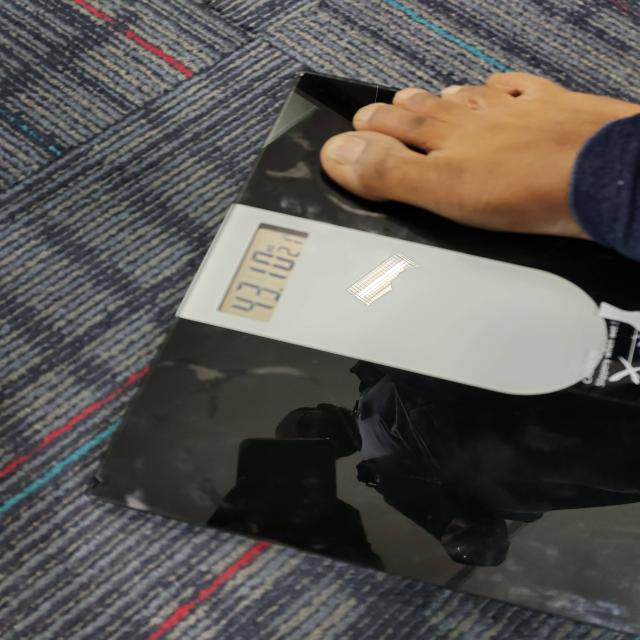ws: (97, 74, 640, 579)
